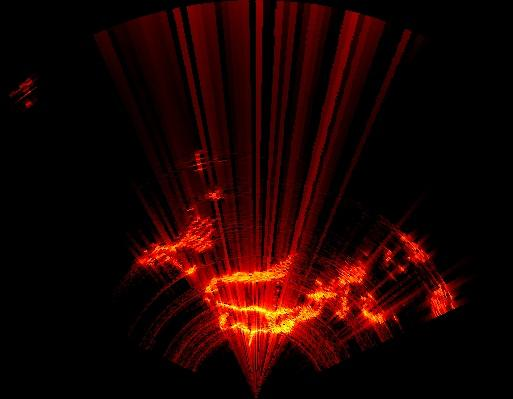shipwreck: (204, 255, 387, 344), (136, 219, 211, 274), (385, 232, 431, 278), (430, 277, 453, 313)
